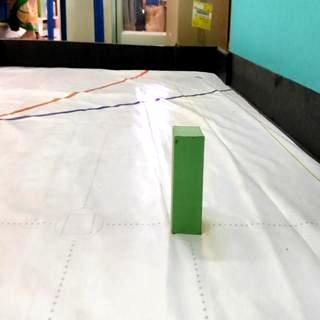greenbox: (172, 125, 206, 235)
